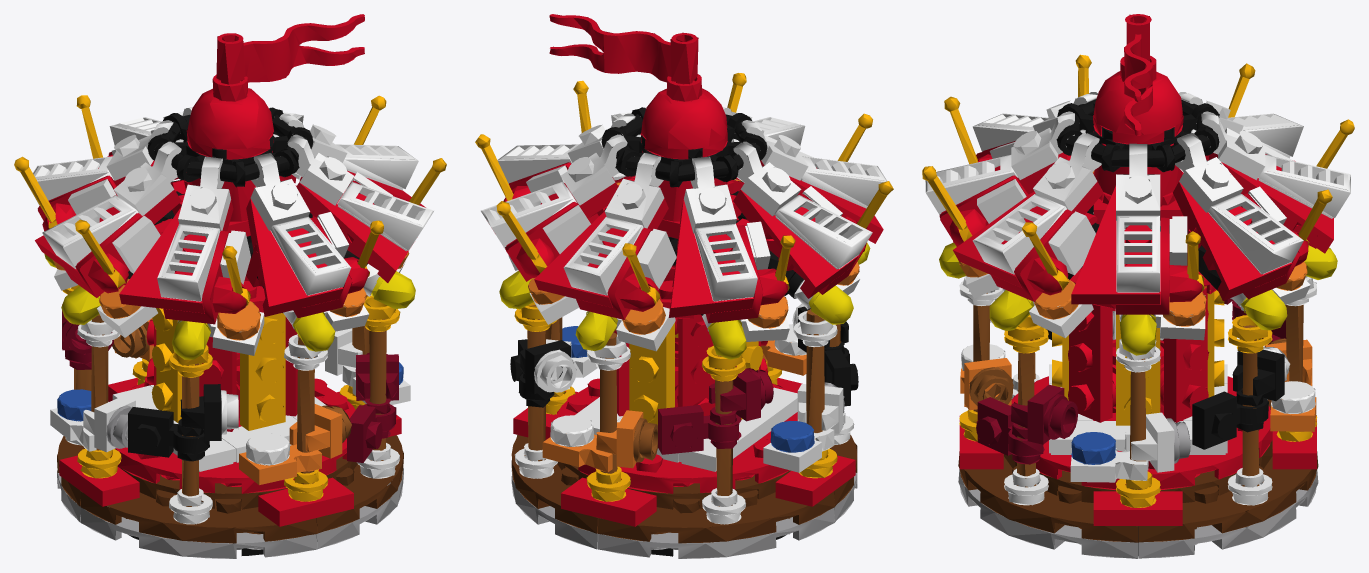
The model's file is carousel - tratado.FBX.
The picture shows the model from 3 angles, left to right: view 1: azimuth 30°, elevation 25°; view 2: azimuth 150°, elevation 25°; view 3: azimuth 270°, elevation 25°; orthographic projection. The views are drawn at different scales.
Parts seen in each view (by area): view 1: Part_11213.35; view 2: Part_11213.35; view 3: Part_11213.35.
Boxes of the visible parts, box(x1,y1,x2,y2) form: Part_11213.35: box(14, 14, 446, 558); Part_11213.35: box(475, 14, 893, 558); Part_11213.35: box(922, 14, 1354, 558).
Bounding box in the file's own units: 7.74 × 9.46 × 7.73.
